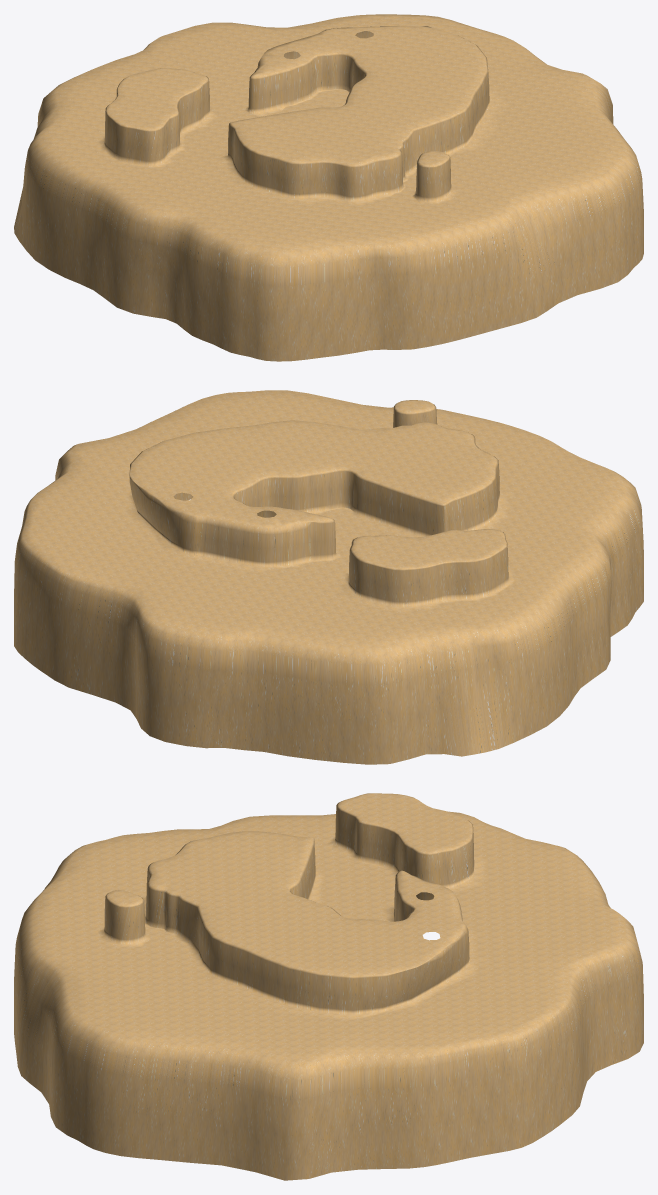
File: sand mesh.fbx
The picture shows the model from 3 angles, top to bottom: view 1: azimuth 30°, elevation 25°; view 2: azimuth 150°, elevation 25°; view 3: azimuth 270°, elevation 25°; orthographic projection. The views are drawn at different scales.
Visible parts, largest first — view 1: PolyShape_57_1; view 2: PolyShape_57_1; view 3: PolyShape_57_1.
Part boxes in pixels (<box>): PolyShape_57_1: <box>14,14,643,361</box>; PolyShape_57_1: <box>14,390,643,764</box>; PolyShape_57_1: <box>14,793,643,1180</box>.
Bounding box in the file's own units: 6.19 × 1.6 × 6.07.
